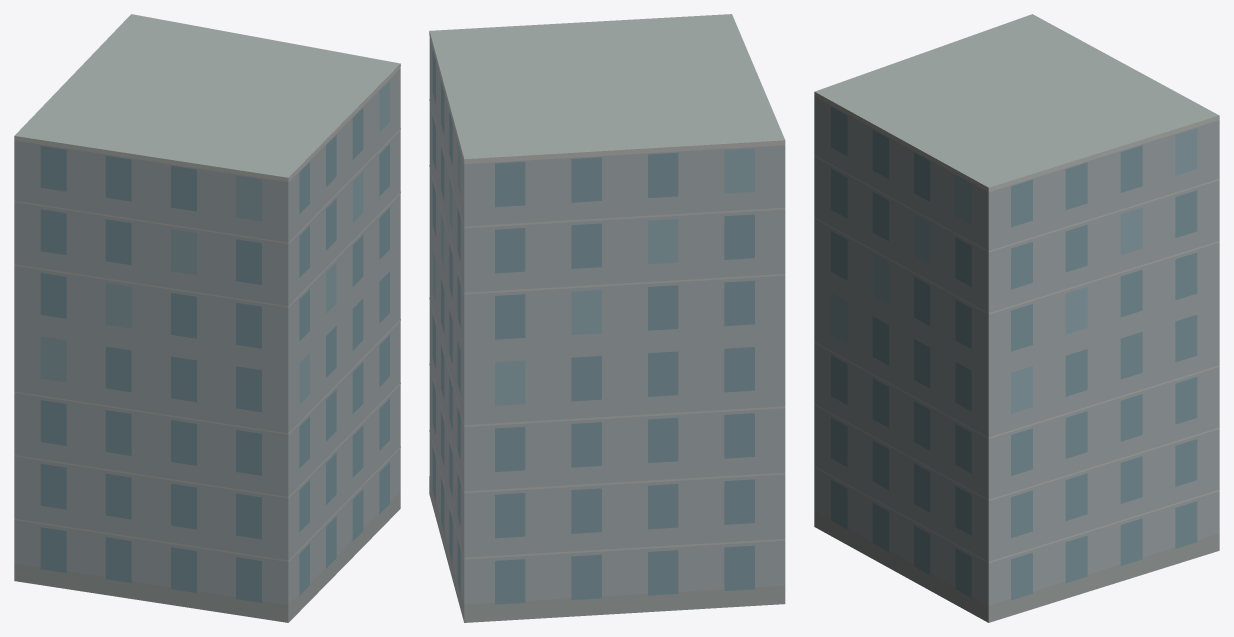
Rendered from survey-upis-32835664.glb.
The picture shows the model from 3 angles, left to right: view 1: azimuth 30°, elevation 25°; view 2: azimuth 150°, elevation 25°; view 3: azimuth 270°, elevation 25°; orthographic projection. The views are drawn at different scales.
Visible parts, largest first — view 1: survey-upis-32835664.tmp; view 2: survey-upis-32835664.tmp; view 3: survey-upis-32835664.tmp.
Boxes of the visible parts, left/top/right/bottom form: survey-upis-32835664.tmp: left=14, top=14, right=400, bottom=622; survey-upis-32835664.tmp: left=429, top=14, right=785, bottom=622; survey-upis-32835664.tmp: left=814, top=14, right=1219, bottom=622.
Size of the model in its own units: 20.02 by 23.37 by 19.73.
